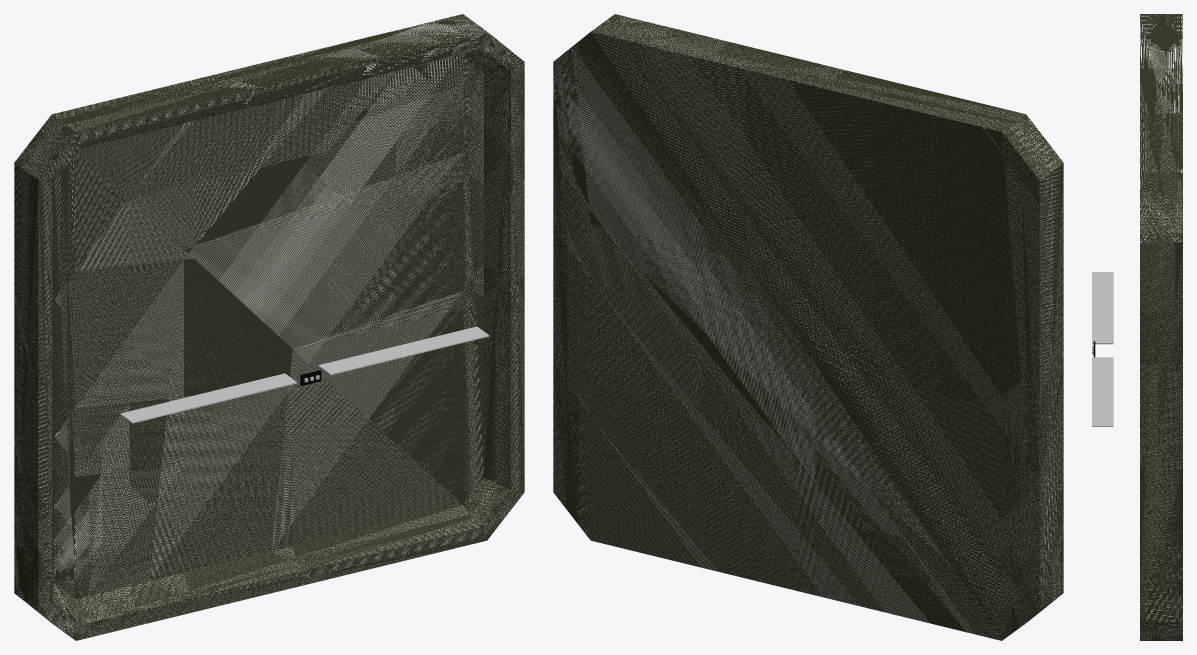
The model's file is CM_-_Boxes.obj.
3 views of the same model, side by side, from view 1: azimuth 30°, elevation 25°; view 2: azimuth 150°, elevation 25°; view 3: azimuth 270°, elevation 25° (orthographic). The views are drawn at different scales.
Visible parts, largest first — view 1: Button.001_ID13, Button_ID3, SM_CM_-_Boxes_path1763-2.070; view 2: Button_ID3; view 3: Button_ID3, SM_CM_-_Boxes_path1763-2.070.
Boxes of the visible parts, bbox=[...] form: Button.001_ID13: bbox=[52, 48, 510, 624]; Button_ID3: bbox=[14, 14, 524, 640]; SM_CM_-_Boxes_path1763-2.070: bbox=[120, 326, 489, 423]; Button_ID3: bbox=[553, 14, 1063, 640]; Button_ID3: bbox=[1140, 14, 1182, 640]; SM_CM_-_Boxes_path1763-2.070: bbox=[1092, 272, 1113, 426].
Bounding box in the file's own units: 1 × 1 × 0.1832.
